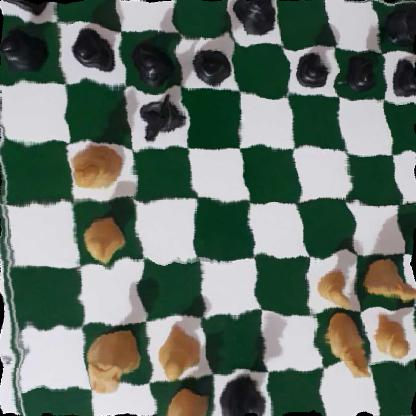black-bishop: (183, 48, 238, 90)
black-king: (231, 0, 281, 39)
black-knight: (138, 87, 185, 145)
black-pawn: (0, 24, 46, 72), (71, 28, 118, 74), (130, 34, 176, 81), (289, 45, 331, 88), (339, 53, 380, 90), (386, 56, 416, 99)
black-queen: (216, 374, 269, 416)
black-rook: (380, 1, 416, 49), (0, 0, 52, 14)
white-bishop: (68, 145, 122, 191), (160, 380, 211, 416)
white-king: (321, 313, 370, 383)
white-knight: (361, 258, 416, 305)
white-pawn: (154, 328, 203, 382), (77, 219, 131, 264), (366, 311, 413, 361), (314, 264, 354, 311)
white-rook: (80, 327, 143, 396)
